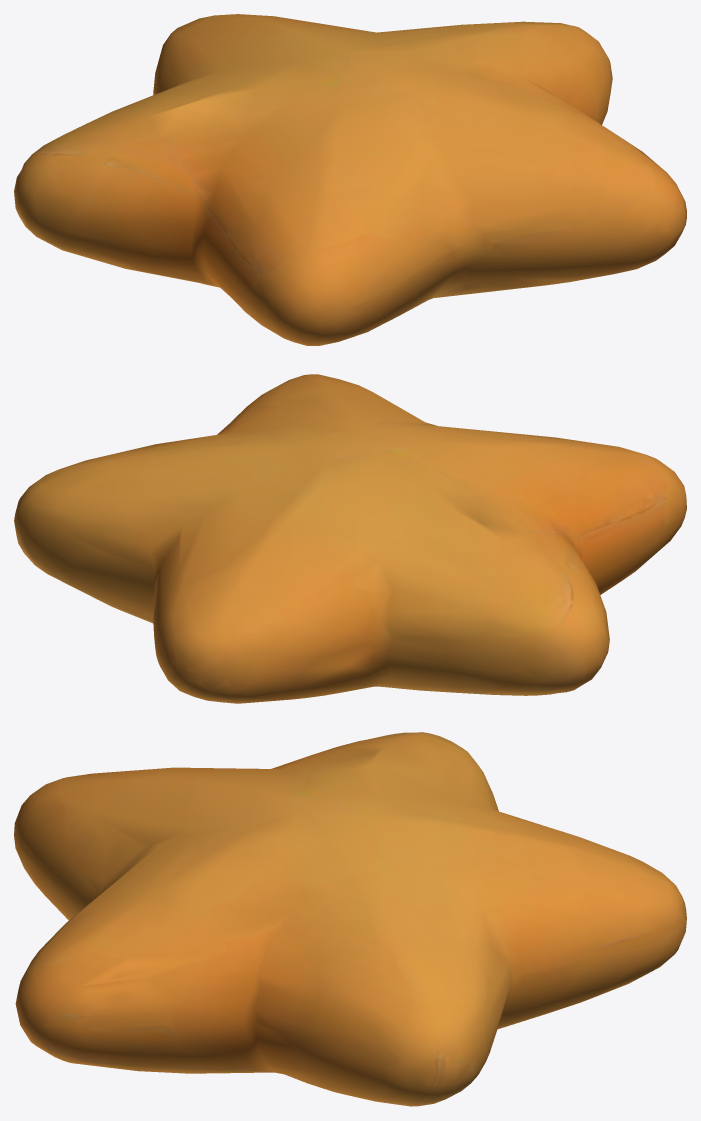
3 views of the same model, one above another, from view 1: azimuth 30°, elevation 25°; view 2: azimuth 150°, elevation 25°; view 3: azimuth 270°, elevation 25° (orthographic). The views are drawn at different scales.
Visible parts, largest first — view 1: material; view 2: material; view 3: material.
Boxes of the visible parts, left/top/right/bottom form: material: left=14, top=14, right=686, bottom=345; material: left=14, top=374, right=686, bottom=703; material: left=14, top=732, right=686, bottom=1106.
Size of the model in its own units: 1 by 0.3406 by 0.9242.
Materials: 1 (1 with a texture image).
